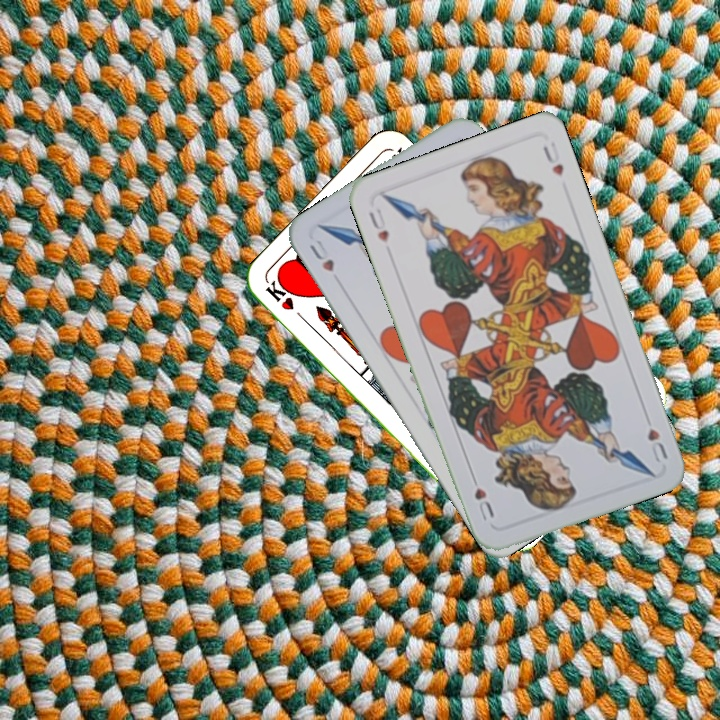HK: (262, 278, 311, 326)
HU: (305, 235, 337, 275), (365, 204, 392, 245), (643, 424, 670, 465)
